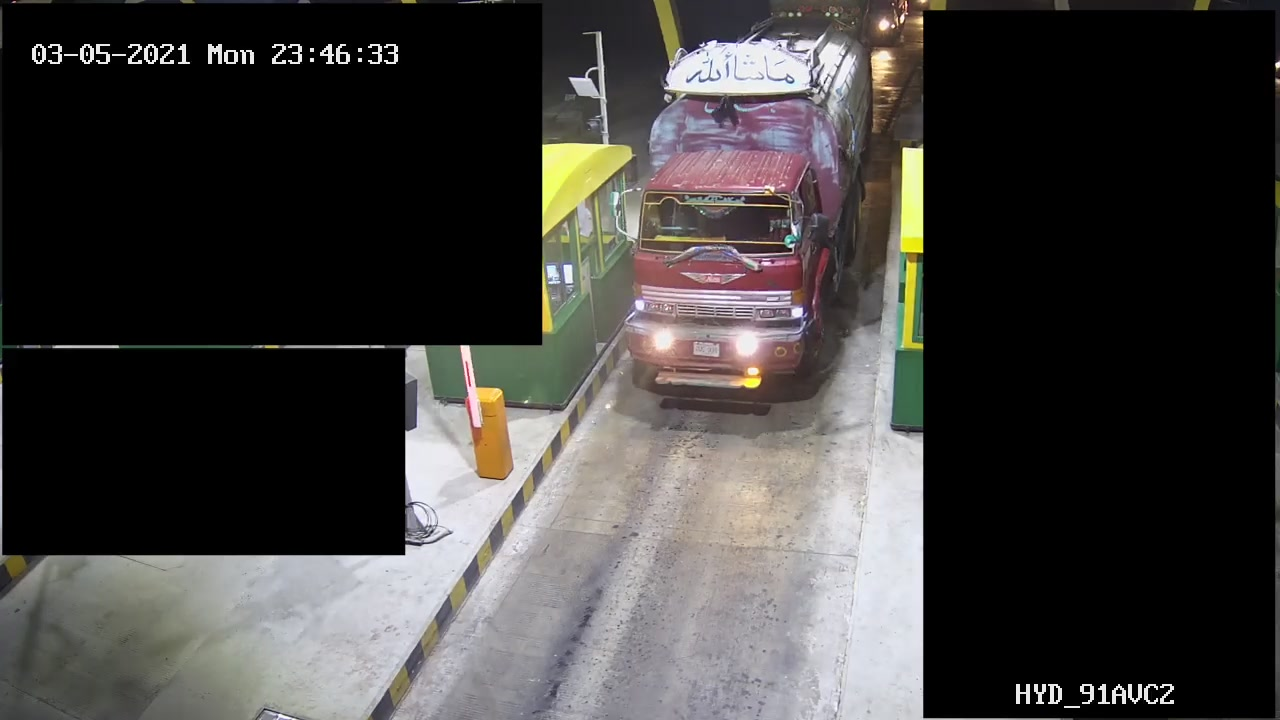F6: (613, 13, 878, 406)
